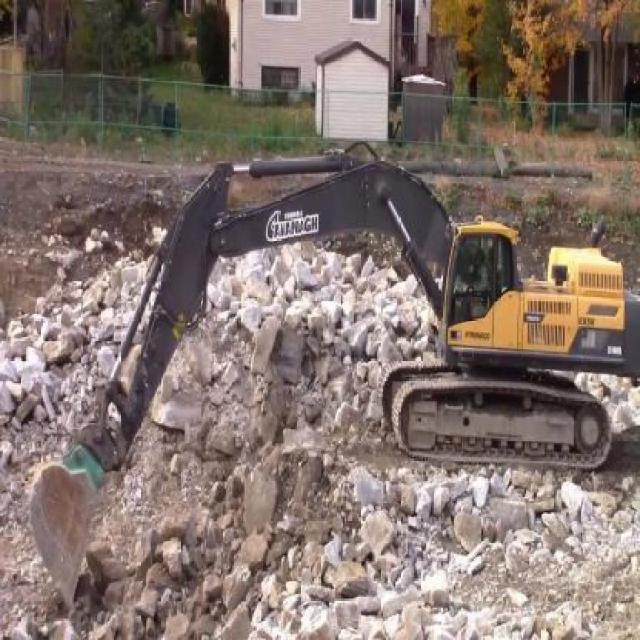Excavator: (15, 139, 639, 613)
